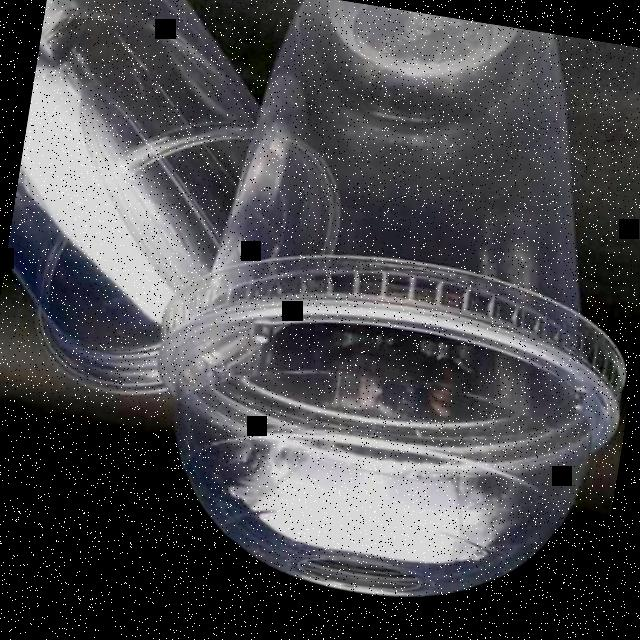plastic_box: (127, 0, 640, 633), (0, 0, 372, 425)
